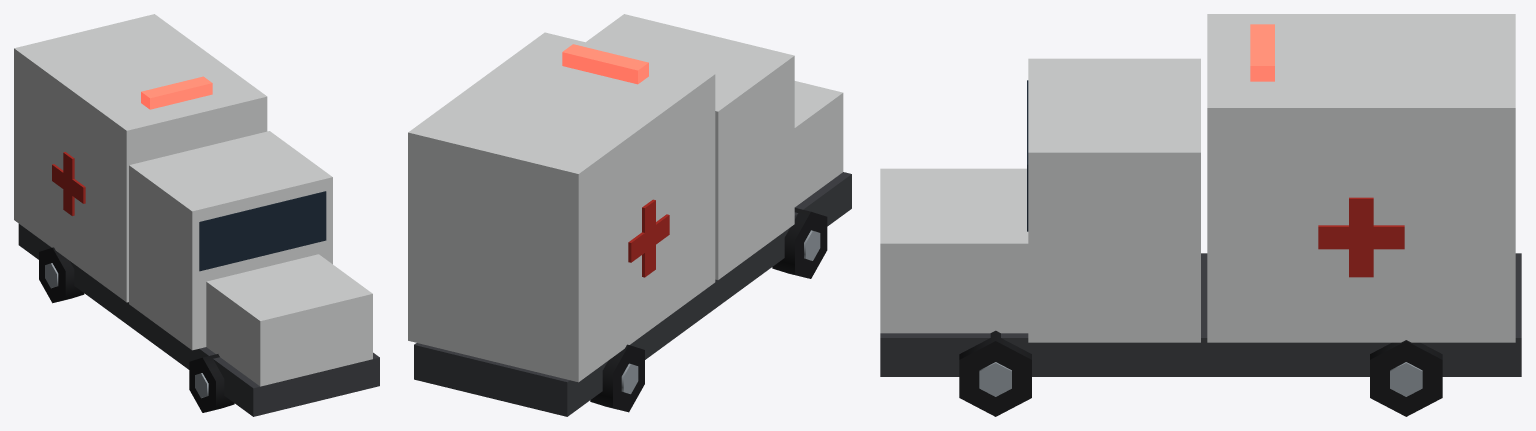
Rendered from veh_ground_ambulance_a06_lod1.glb.
3 renders of one model, left to right at view 1: azimuth 30°, elevation 25°; view 2: azimuth 150°, elevation 25°; view 3: azimuth 270°, elevation 25°, orthographic. The views are drawn at different scales.
Visible parts, largest first — view 1: body, wheel_2, wheel_0; view 2: body, wheel_2, wheel_0; view 3: body, wheel_3, wheel_1.
Boxes of the visible parts, <box> form: body: <box>14,14,379,416</box>; wheel_2: <box>189,354,234,412</box>; wheel_0: <box>39,247,84,303</box>; body: <box>408,14,851,416</box>; wheel_2: <box>772,208,827,278</box>; wheel_0: <box>590,344,644,412</box>; body: <box>880,14,1521,376</box>; wheel_3: <box>959,330,1031,416</box>; wheel_1: <box>1370,340,1442,416</box>.
Size of the model in its own units: 1.88 by 2.9 by 5.2.
